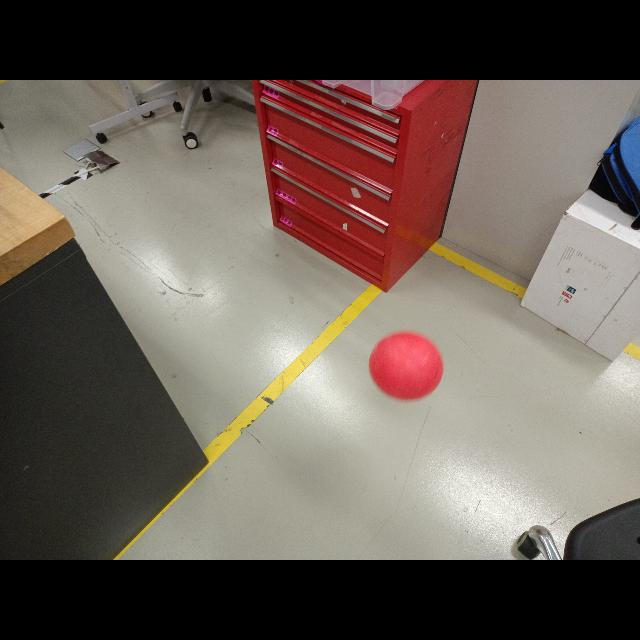R: (371, 332, 444, 401)
